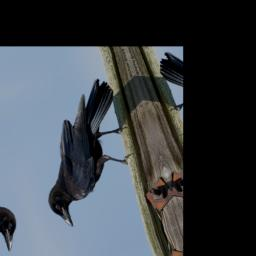Crow: (18, 74, 148, 233)
